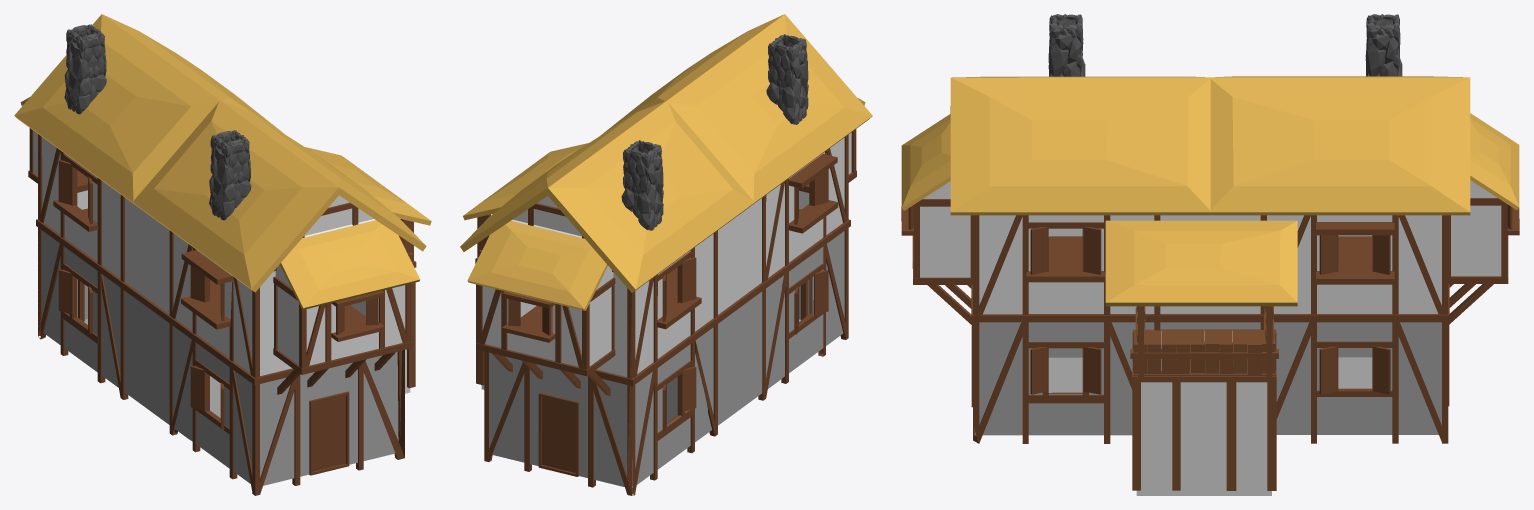
Rendered from building_medium.fbx.
The picture shows the model from 3 angles, left to right: view 1: azimuth 30°, elevation 25°; view 2: azimuth 150°, elevation 25°; view 3: azimuth 270°, elevation 25°; orthographic projection. The views are drawn at different scales.
Parts seen in each view (by area): view 1: Cube.014, Plane.005, Plane.006, Cube.017, Cube.011, Cube.019, Cube.016, Cube.057, Cube.097, Plane.007, Cube.058; view 2: Cube.014, Plane.006, Plane.005, Cube.017, Cube.016, Cube.019, Cube.011, Cube.097, Cube.057, Plane.007, Cube.058; view 3: Plane.005, Plane.006, Cube.014, Cube.017, Plane.007, Cube.016, Cube.020, Cube.011, Cube.058, Cube.057, Cube.097, Cube.019.
Part boxes in pixels (x1,y1,x2,y2): Cube.014: [28, 128, 412, 495]; Plane.005: [133, 101, 426, 309]; Plane.006: [14, 14, 283, 205]; Cube.017: [33, 131, 405, 376]; Cube.011: [190, 339, 398, 485]; Cube.019: [106, 277, 220, 439]; Cube.016: [40, 230, 106, 378]; Cube.057: [209, 130, 251, 220]; Cube.097: [64, 24, 106, 114]; Plane.007: [305, 147, 431, 225]; Cube.058: [400, 219, 416, 388]; Cube.014: [476, 129, 856, 495]; Plane.006: [460, 100, 754, 310]; Plane.005: [601, 14, 872, 204]; Cube.017: [482, 132, 851, 376]; Cube.016: [489, 339, 697, 487]; Cube.019: [667, 277, 781, 439]; Cube.011: [782, 231, 844, 378]; Cube.097: [621, 140, 663, 230]; Cube.057: [766, 34, 808, 124]; Plane.007: [463, 143, 588, 220]; Cube.058: [475, 214, 490, 385]; Plane.005: [901, 76, 1211, 215]; Plane.006: [1209, 76, 1519, 215]; Cube.014: [901, 198, 1519, 443]; Cube.017: [920, 180, 1501, 314]; Plane.007: [1105, 220, 1297, 306]; Cube.016: [1274, 322, 1441, 434]; Cube.020: [1136, 331, 1271, 495]; Cube.011: [974, 322, 1154, 435]; Cube.058: [1130, 306, 1278, 490]; Cube.057: [1048, 14, 1085, 76]; Cube.097: [1365, 14, 1402, 76]; Cube.019: [1160, 322, 1260, 330].
Bounding box in the file's own units: 1293 × 1629 × 2511.
